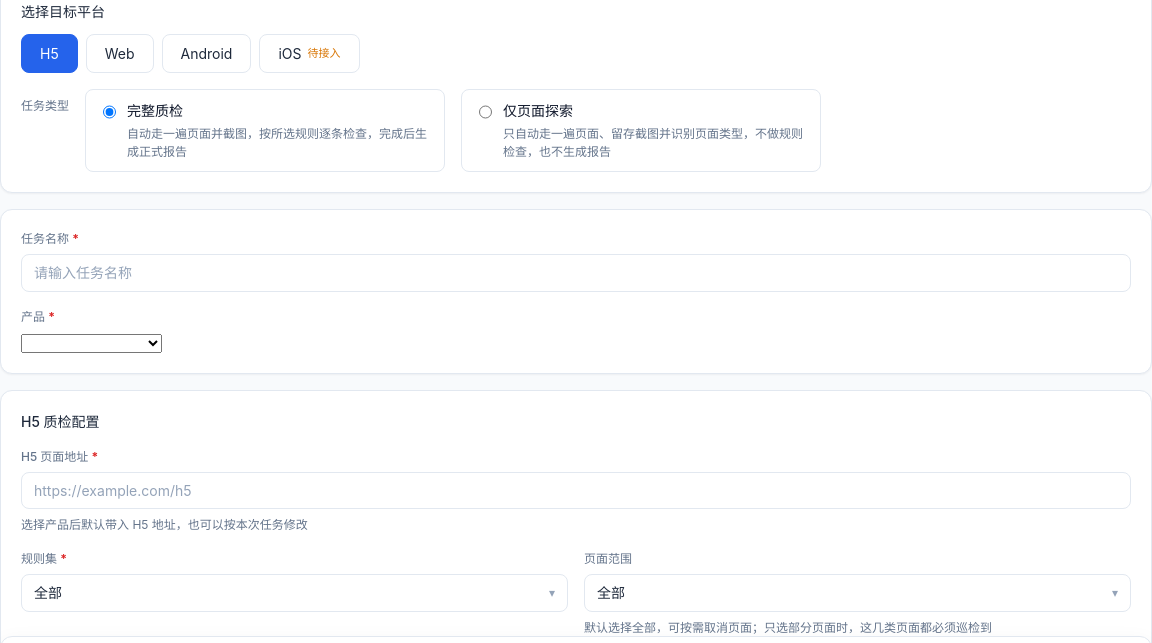
创建任务：Android 三步向导 › 三步：基础信息 / 设备配置 / 巡检确认，底部操作栏不显示
What coordinates should you click on to do the following:
click the button with test id "platform-app"
I would click on:
 (206, 54)
Its box is [162,34,251,73].
(page scrolled)
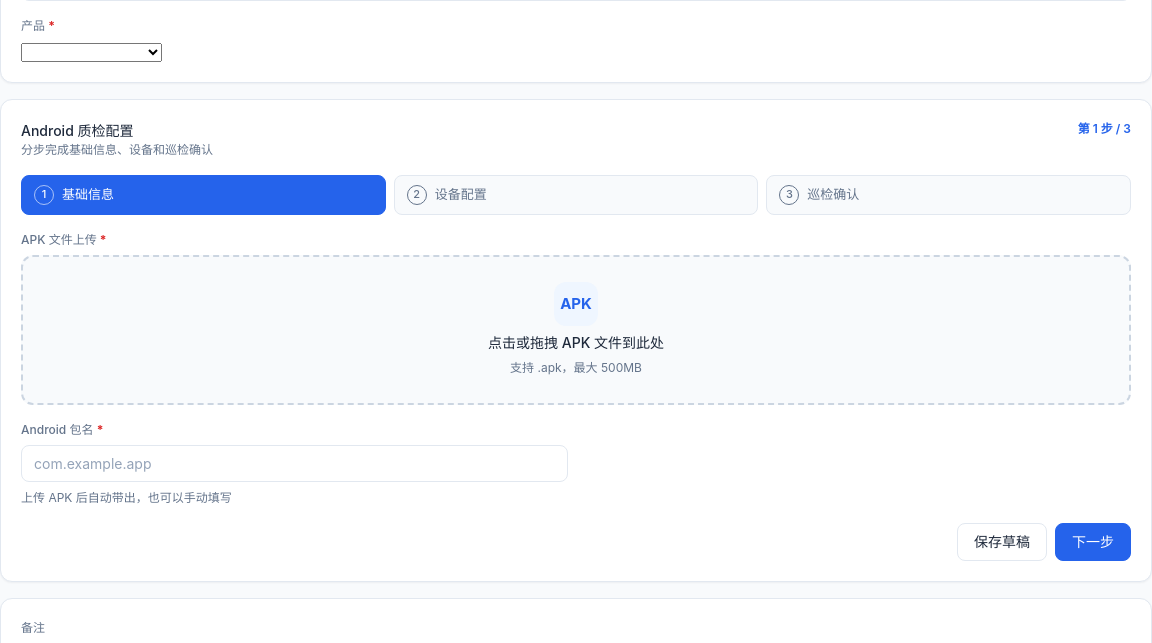
expect the list with test id "create-steps" shows "基础信息": met, box [21,175,386,215]
expect the list with test id "create-steps" shows "设备配置": met, box [394,175,758,215]
expect the list with test id "create-steps" shows "巡检确认": met, box [766,175,1131,215]
